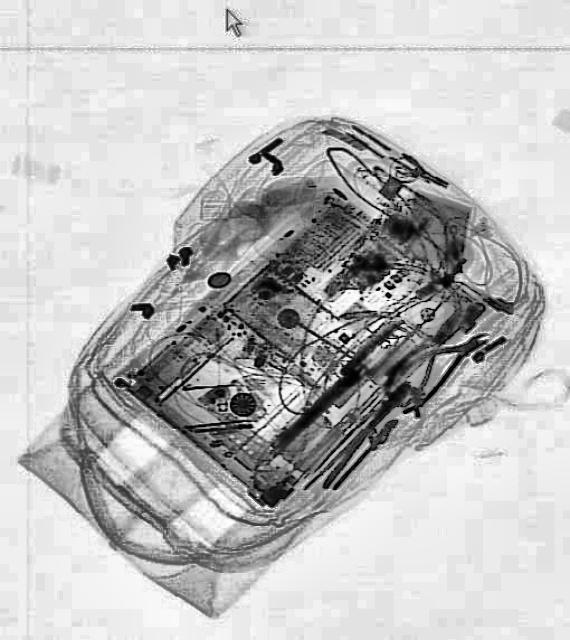Pliers: (377, 312, 500, 418)
